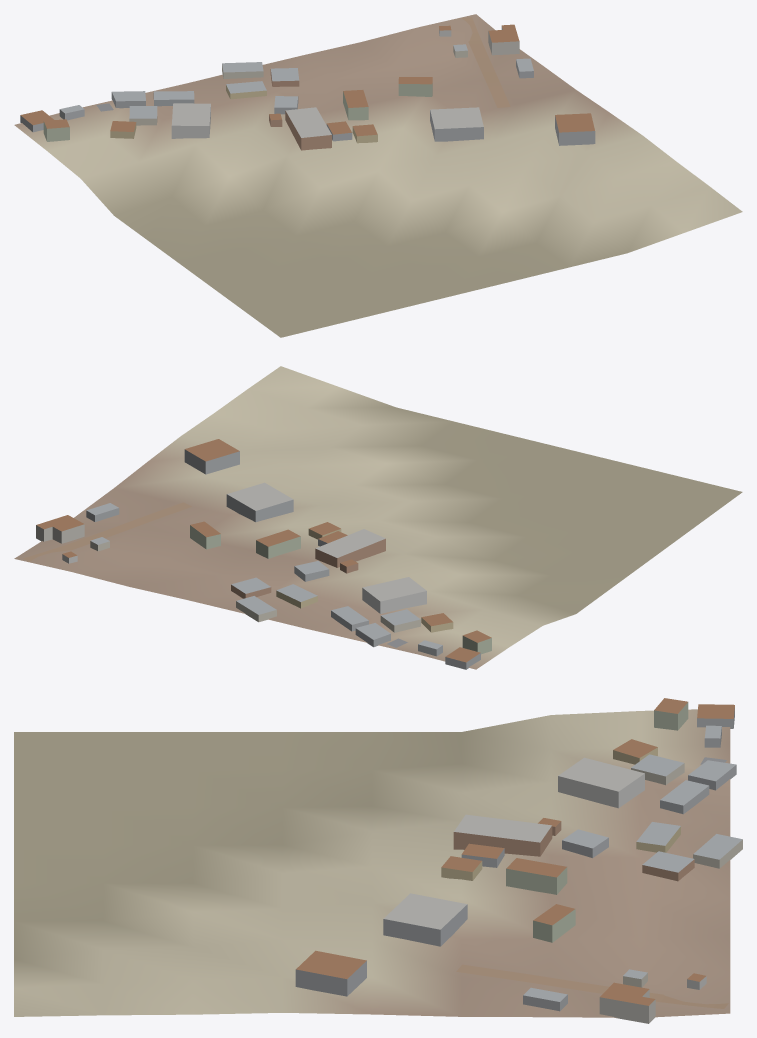
The picture shows the model from 3 angles, top to bottom: view 1: azimuth 30°, elevation 25°; view 2: azimuth 150°, elevation 25°; view 3: azimuth 270°, elevation 25°; orthographic projection. The views are drawn at different scales.
Parts seen in each view (by area): view 1: Lo; view 2: Lo; view 3: Lo.
Part boxes in pixels (x1=…): Lo: x1=14, y1=14, x2=742, y2=337; Lo: x1=14, y1=366, x2=742, y2=669; Lo: x1=14, y1=698, x2=742, y2=1023.
Size of the model in its own units: 261 by 16.62 by 261.
